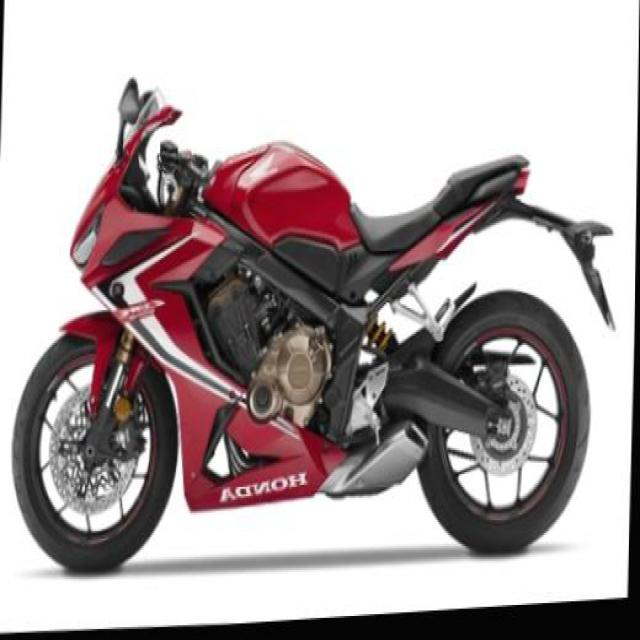CBR650R: (8, 51, 625, 593)
